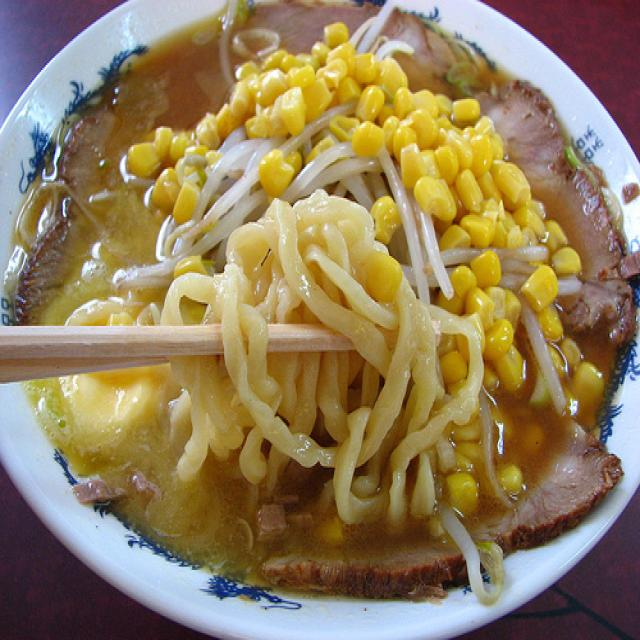面条主食: (15, 14, 622, 606)
